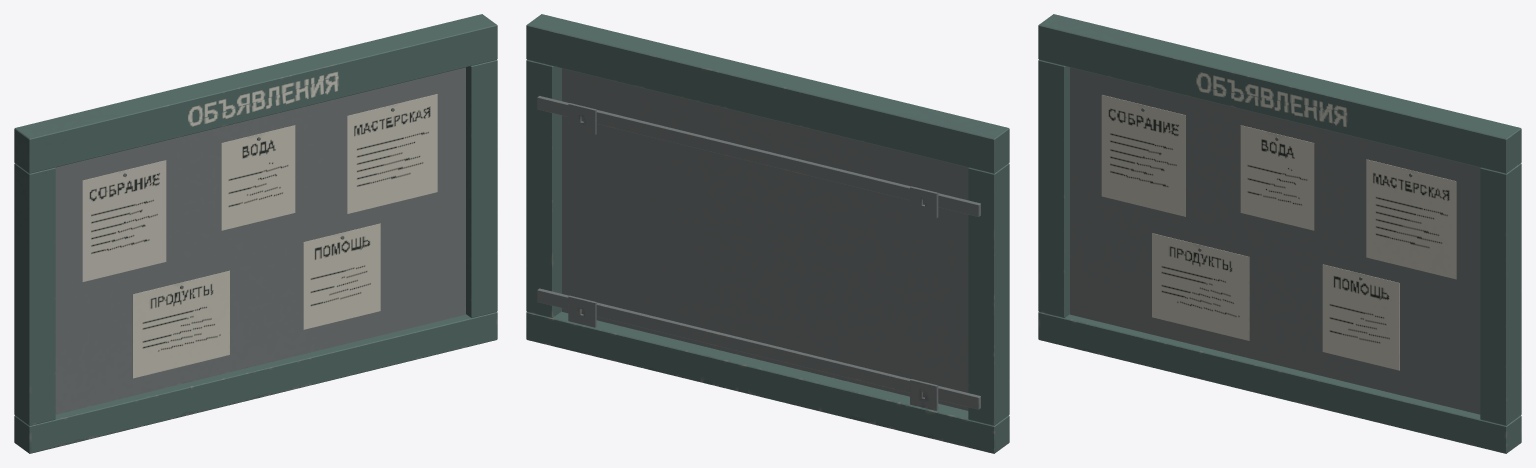
The model's file is notice_board_wall.glb.
The picture shows the model from 3 angles, left to right: view 1: azimuth 30°, elevation 25°; view 2: azimuth 150°, elevation 25°; view 3: azimuth 330°, elevation 25°; orthographic projection.
Visible parts, largest first — view 1: NoticeBoardWall; view 2: NoticeBoardWall; view 3: NoticeBoardWall.
Part boxes in pixels (x1,y1,x2,y2): NoticeBoardWall: (14, 14, 497, 453); NoticeBoardWall: (526, 14, 1009, 453); NoticeBoardWall: (1038, 14, 1521, 453).
Size of what is drawn, in the model's own units: 1.4 by 0.9 by 0.12.
Materials: 1 (1 with a texture image).
